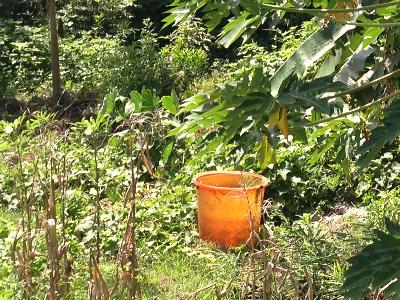bucket: (192, 170, 266, 255)
